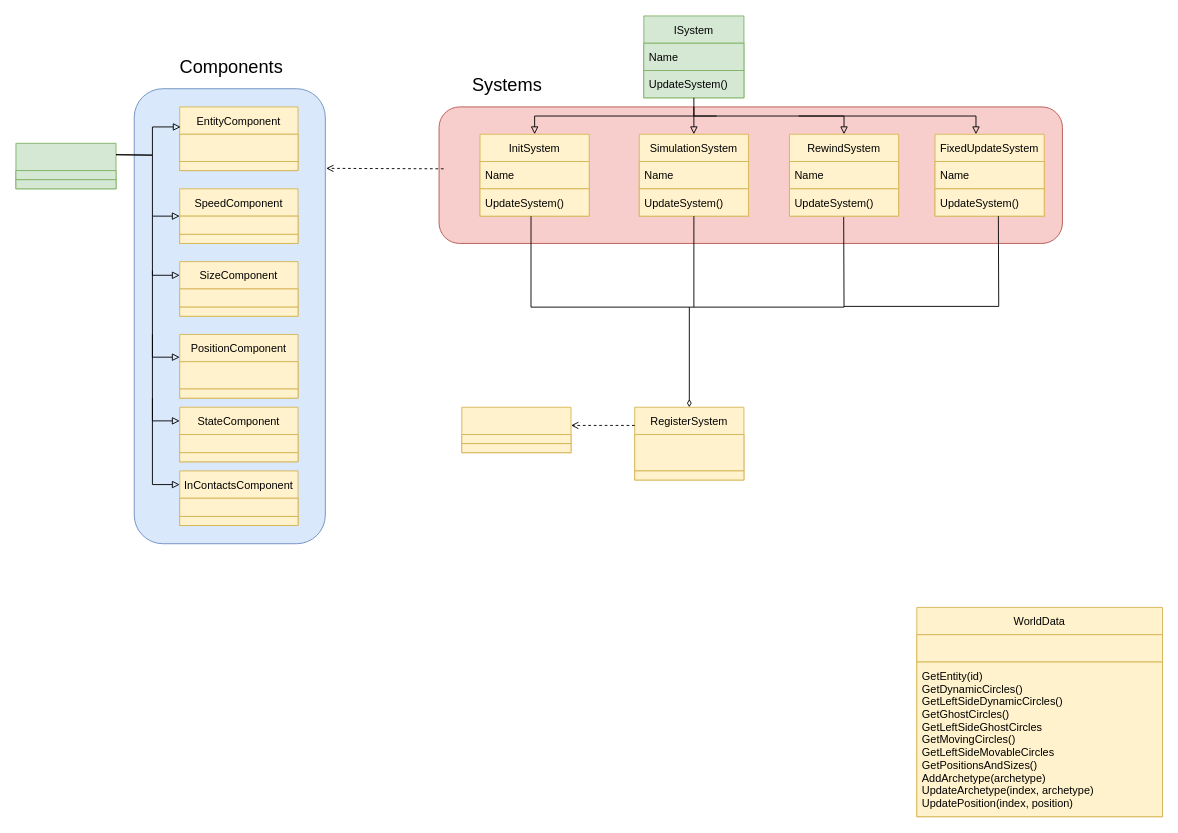
Some shapes in this 1178 by 833 pixel diagram are drawn without their labels. The centre of each missing label's shape, as x and y in pixels:
"archetypes" goes at pixel 1039 648.
"contacts" goes at pixel 238 506.
"ECSManager" goes at pixel 516 429.
"IComponent" goes at pixel 65 165.
"id" goes at pixel 238 147.
"position side" goes at pixel 238 375.
"size" goes at pixel 238 297.
"speed" goes at pixel 238 224.
"state" goes at pixel 238 443.
"toRegister" goes at pixel 689 452.
